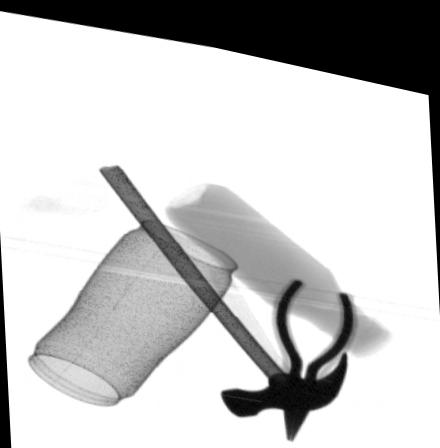Hammer: (98, 158, 350, 408)
Pliers: (270, 263, 359, 429)
